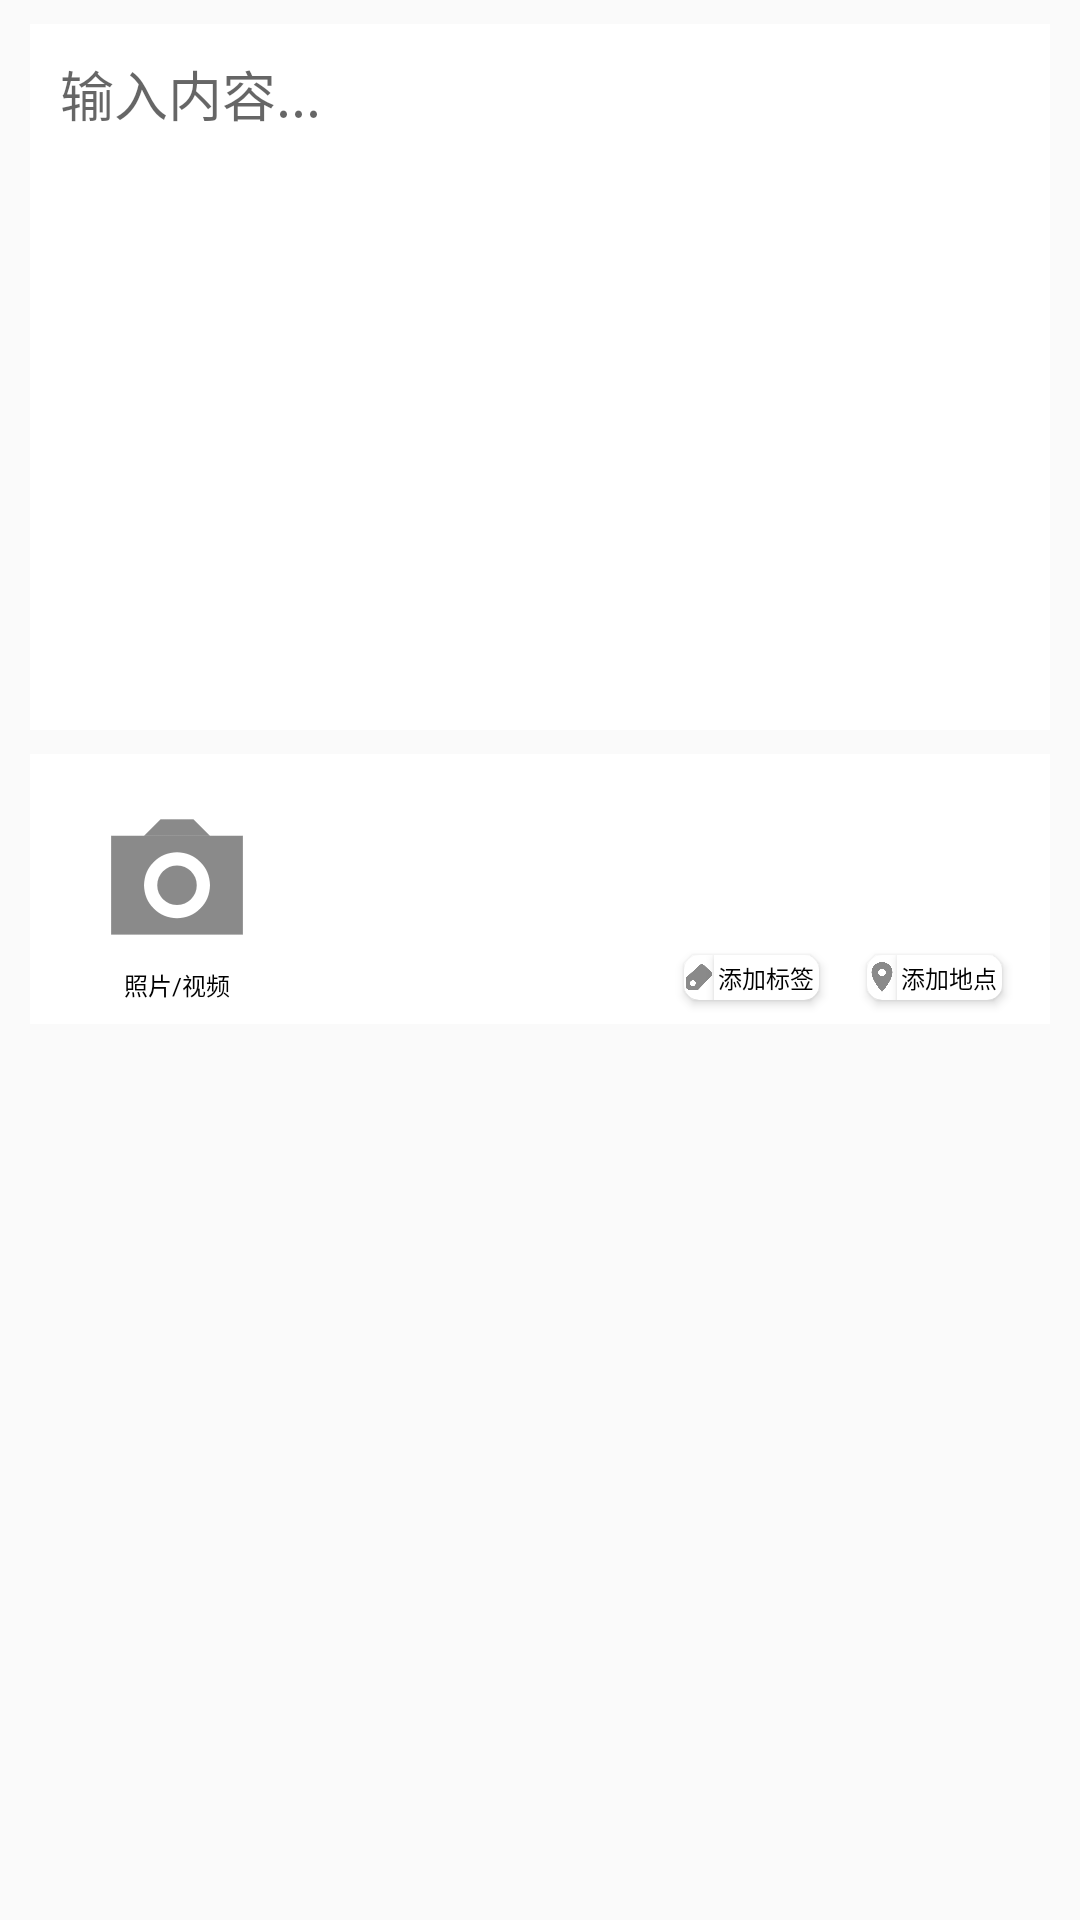

Where icons sit on this 1080*1920 app screen, as BBox(x1, y1, x2, y2):
camera: BBox(111, 819, 243, 935)
label: BBox(684, 964, 712, 992)
location: BBox(871, 962, 893, 991)
